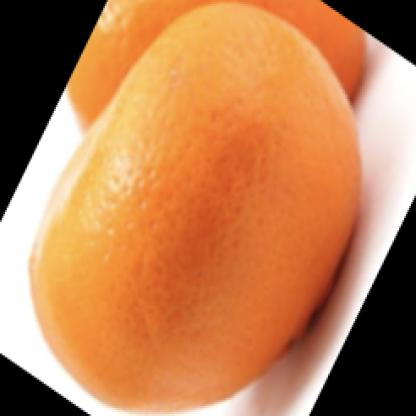fresh: (30, 6, 366, 416)
